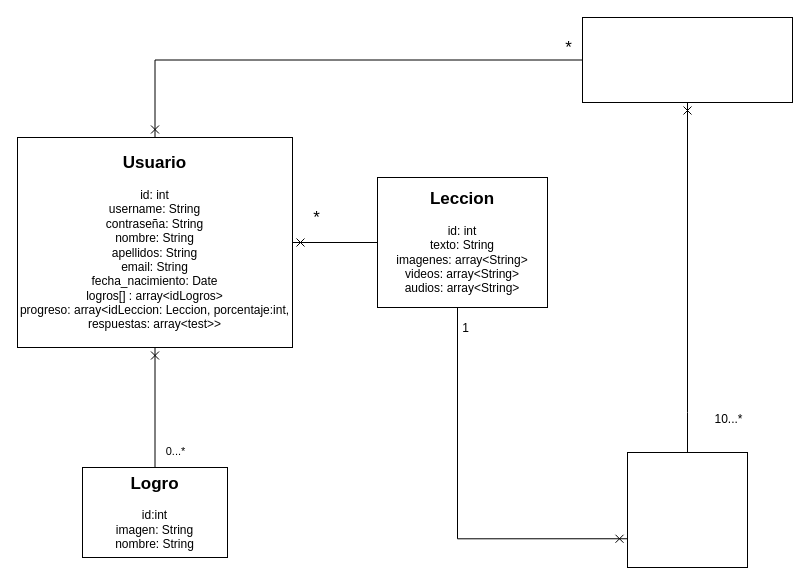
The diagram is 810 pixels wide and 585 high, and some of its shapes have lost their labels. Here are the shapes that lost their labels. From the top down, the centre of each, then its label:
At [687,59]: "Test id: int Preguntas: array<Pregunta> Respuestas: array<resp, correcto>".
At [687,510]: "Pregunta id: int cuestion: String imagen: String respuestas: [] leccion: int".
